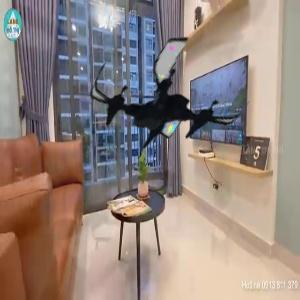drone: (94, 29, 238, 173)
